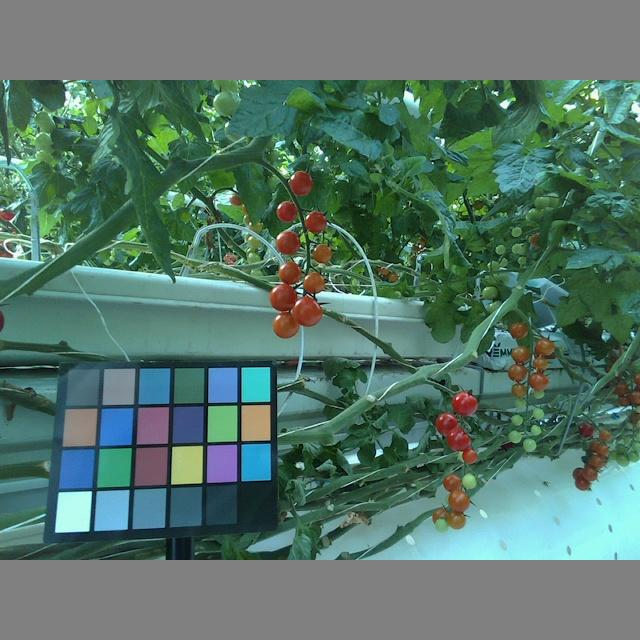green: (211, 91, 242, 118), (461, 473, 477, 491), (522, 435, 537, 453), (507, 430, 525, 443), (532, 406, 546, 420), (527, 425, 542, 437), (513, 398, 526, 411), (511, 414, 523, 427)
pink: (300, 271, 325, 294), (445, 507, 465, 530), (507, 319, 528, 340), (448, 491, 471, 510), (509, 346, 532, 365), (526, 371, 548, 390), (312, 243, 332, 263), (534, 339, 556, 357), (442, 474, 462, 492), (508, 365, 526, 383), (532, 354, 549, 371), (512, 381, 528, 397)
red: (290, 295, 321, 326), (270, 280, 301, 308), (272, 312, 301, 339), (274, 229, 301, 257), (289, 169, 314, 196), (302, 210, 328, 235), (452, 391, 478, 416), (435, 412, 460, 437), (444, 427, 470, 450), (273, 202, 299, 223), (277, 260, 301, 281), (460, 449, 477, 466)
